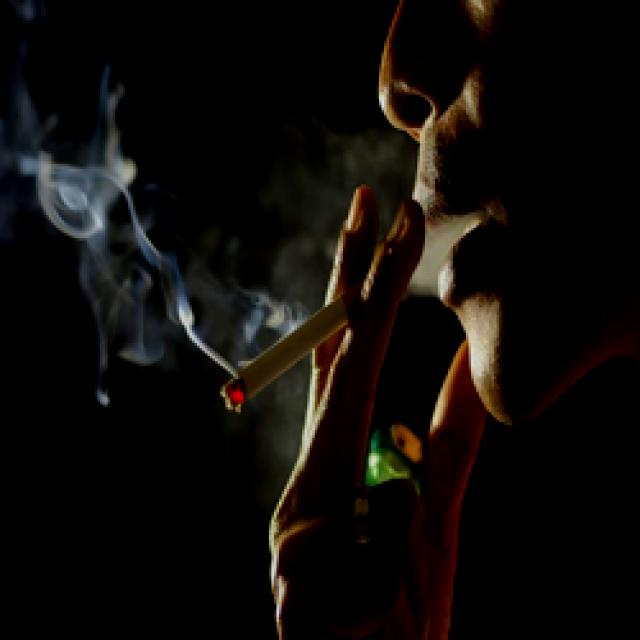Smooking: (181, 242, 435, 421)
